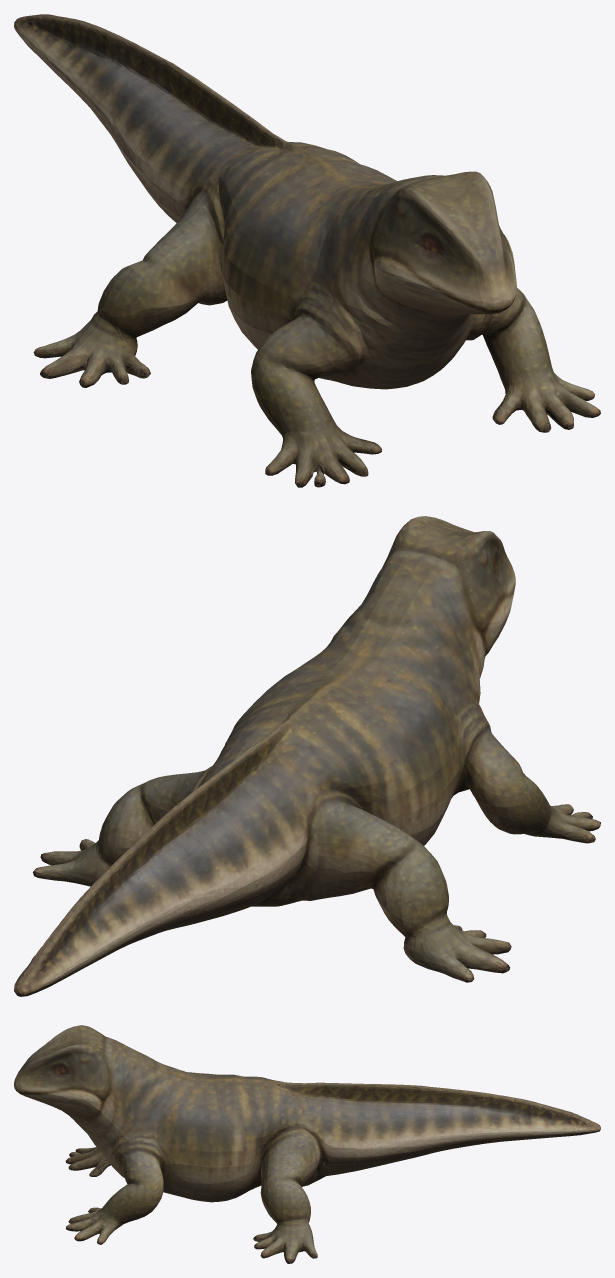
3 renders of one model, top to bottom at view 1: azimuth 30°, elevation 25°; view 2: azimuth 150°, elevation 25°; view 3: azimuth 270°, elevation 25°, orthographic. The views are drawn at different scales.
Visible parts, largest first — view 1: world; view 2: world; view 3: world.
Boxes of the visible parts, x1,y1,x2,y2 form: world: (14, 14, 600, 487); world: (14, 516, 600, 996); world: (14, 1025, 600, 1263).
Size of the model in its own units: 0.5598 by 0.3075 by 1.
1 material, 1 textured.
